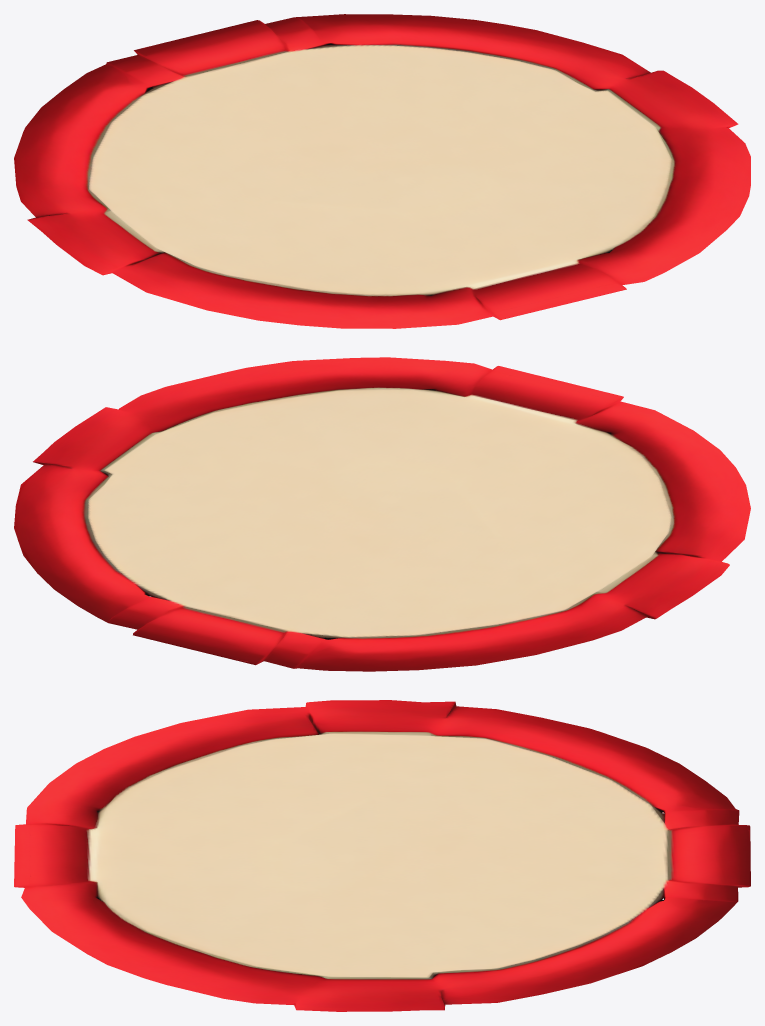
Rendered from 10-rug-v2.fbx.
The picture shows the model from 3 angles, top to bottom: view 1: azimuth 30°, elevation 25°; view 2: azimuth 150°, elevation 25°; view 3: azimuth 270°, elevation 25°; orthographic projection.
Parts seen in each view (by area): view 1: model; view 2: model; view 3: model.
Part boxes in pixels (x1,y1,x2,y2): model: [14, 14, 750, 328]; model: [14, 357, 750, 671]; model: [14, 700, 750, 1011].
Bounding box in the file's own units: 200 × 1.2 × 200.
